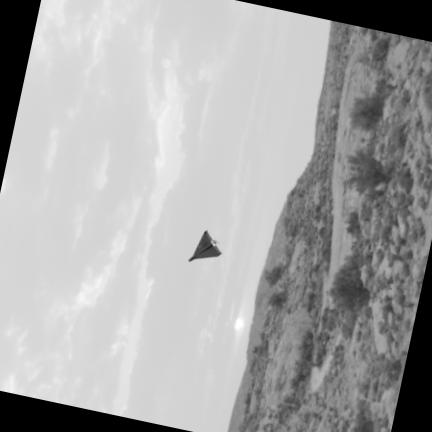Shahed: (189, 230, 220, 260)
